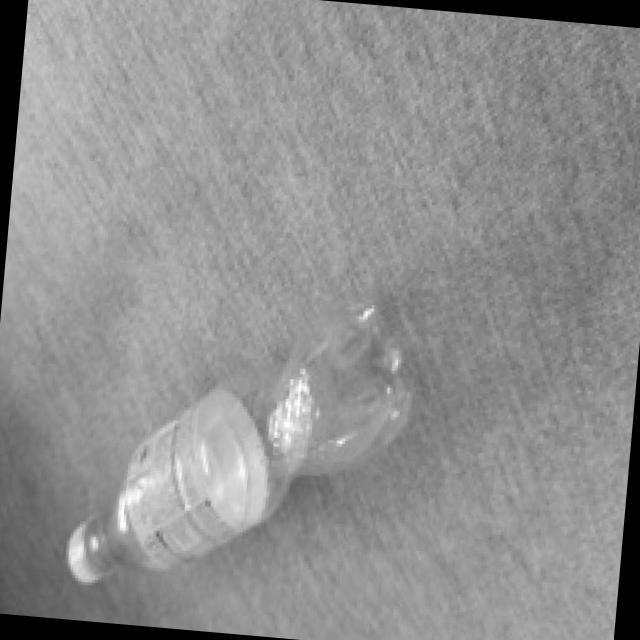good: (64, 308, 413, 616)
